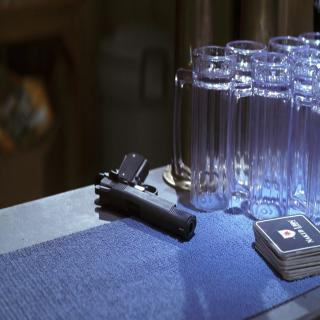gun: (94, 149, 198, 240)
